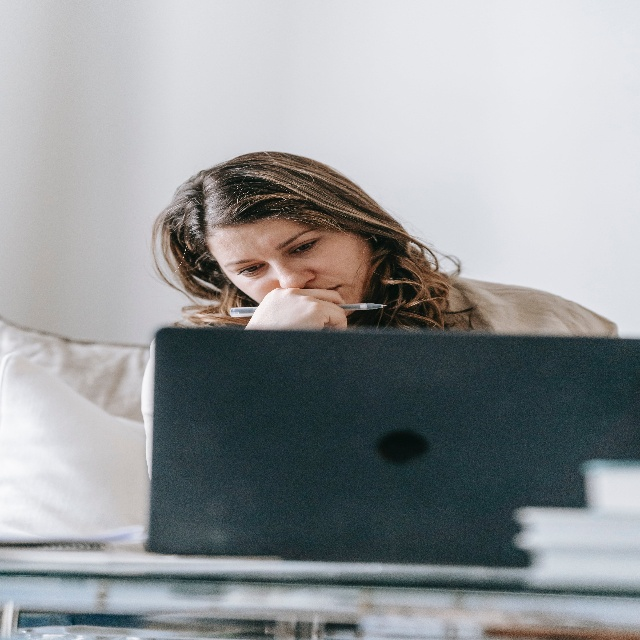Sin_guantes: (244, 288, 348, 331)
